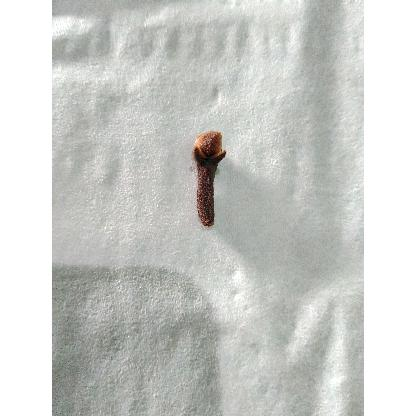baik: (193, 131, 226, 229)
